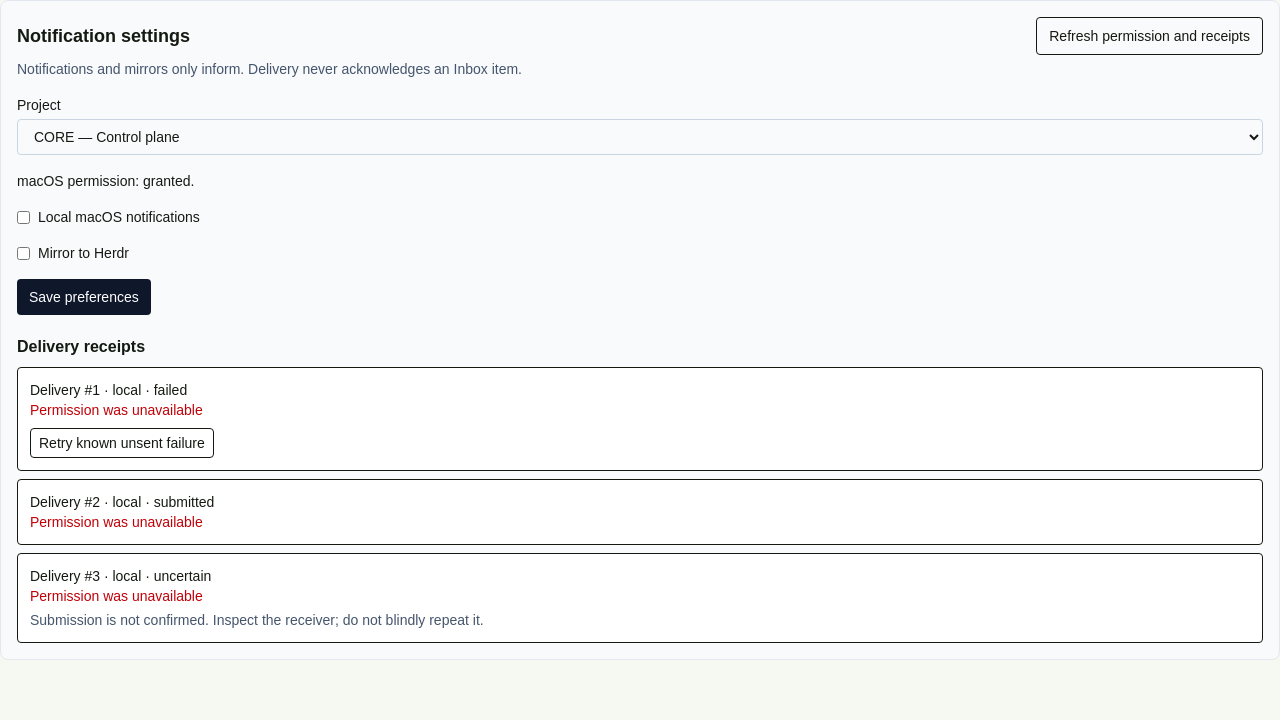
Scenario: notification-settings › offers retries for known failures but not submitted or uncertain deliveries
This screenshot has width=1280, height=720.
Click the button with test id "notification-retry". click: (122, 443)
box: x1=30 y1=428 x2=214 y2=458
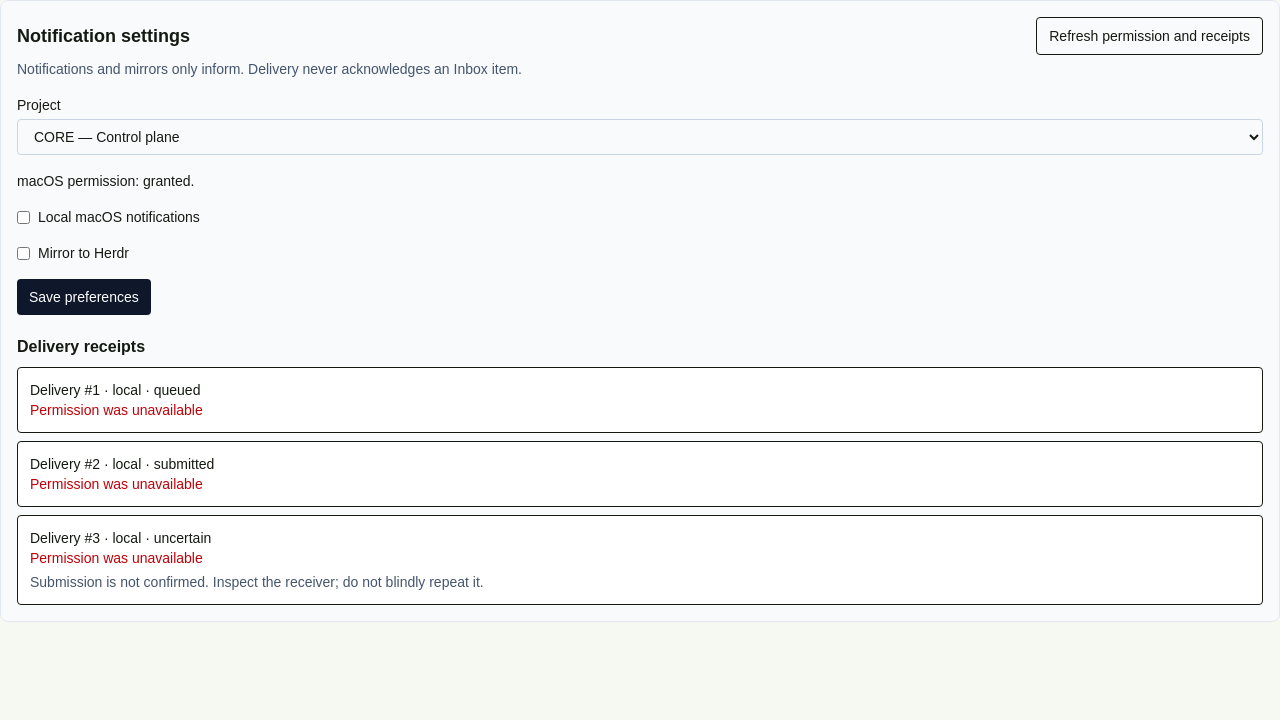
Expected: no buttons with test id "notification-retry" are shown
